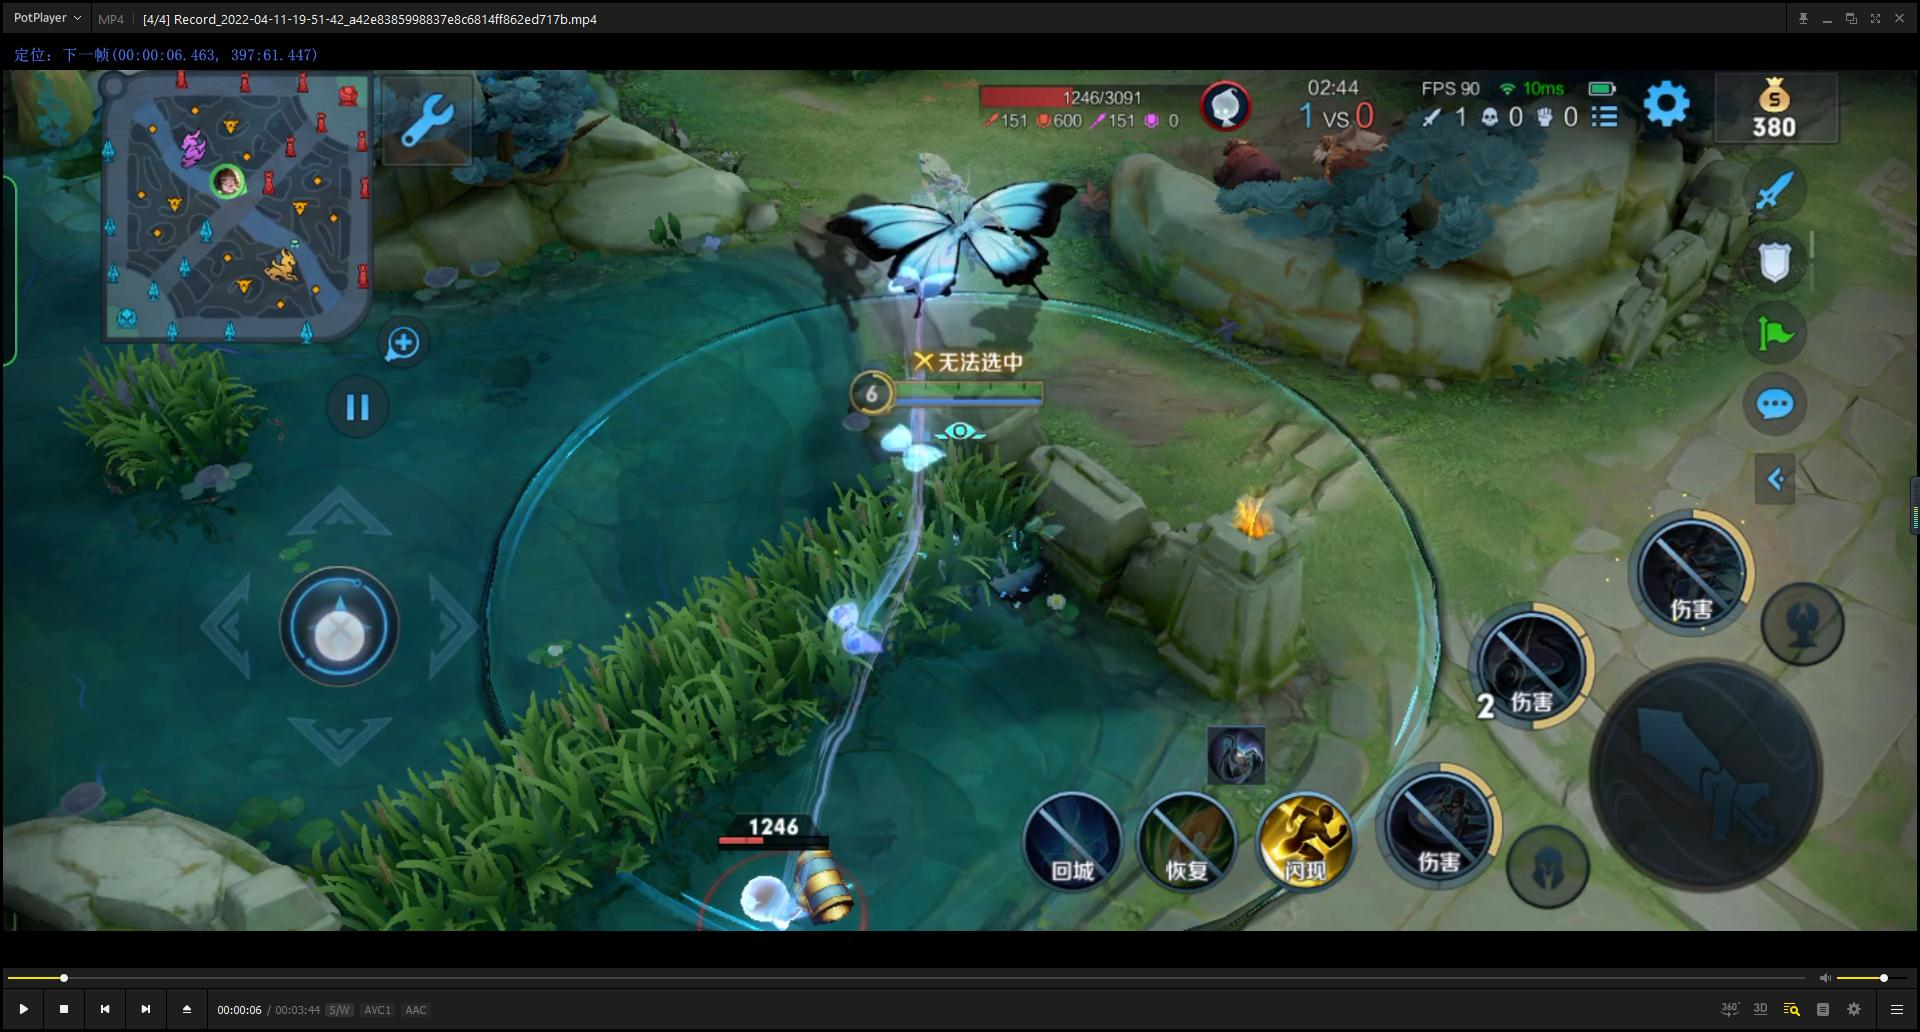Hero: (801, 164, 1083, 611)
Pig: (1194, 127, 1294, 220), (1299, 118, 1386, 189)
Spirit: (618, 793, 888, 934)
